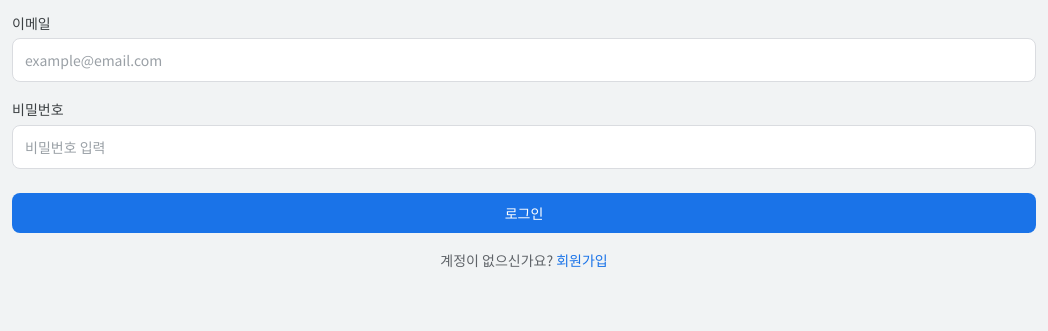
Scenario: LoginForm › 빈 폼 제출 시 유효성 에러가 표시된다
Click the button "로그인": (524, 213) [12,193,1036,233]
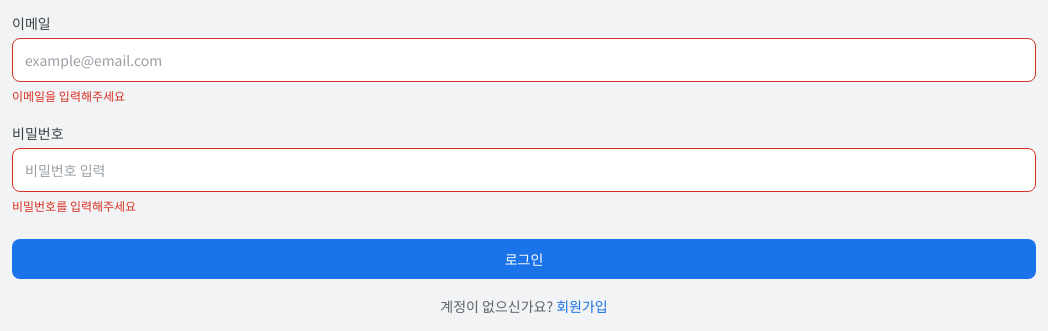
Expected: the text "이메일을 입력해주세요" is shown, [12,87,125,104]
